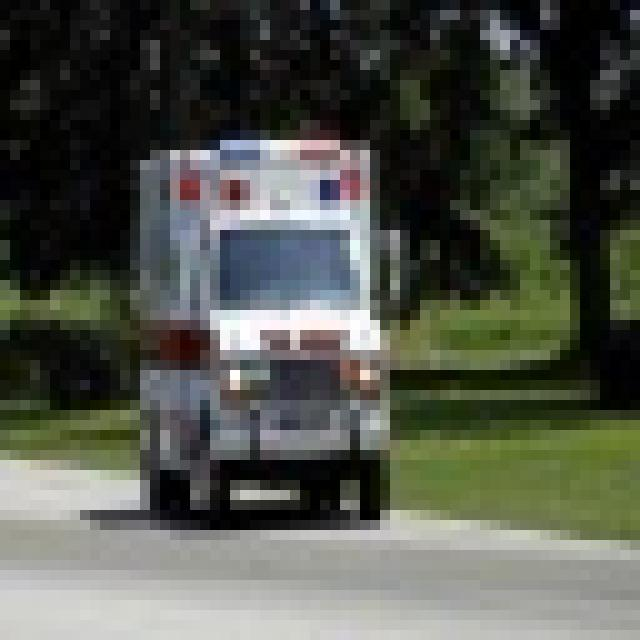Ambulance: (120, 130, 400, 520)
